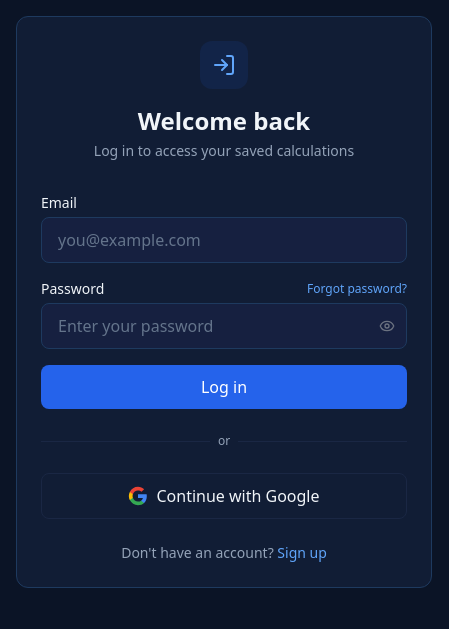
Test: LoginPage - client-side validation › blocks submit and surfaces the required error on the password when only the email is filled
The width and height of the screenshot is (449, 629).
Step 1. Type "maria@example.com" into the field labelled "Email" → [224, 240], box [41, 217, 407, 263]
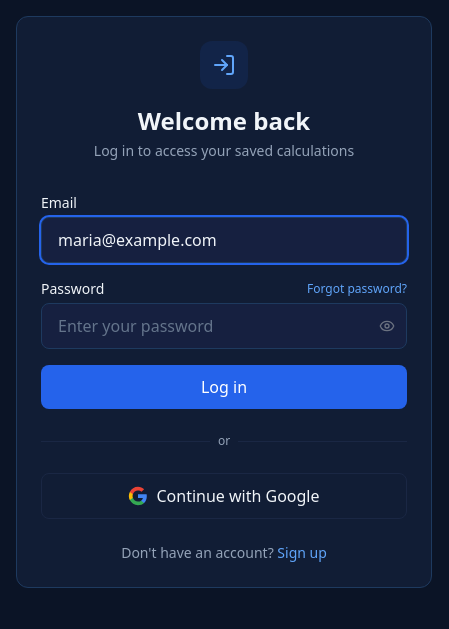
Step 2. Click the button "Log in" → [224, 387], box [41, 365, 407, 409]
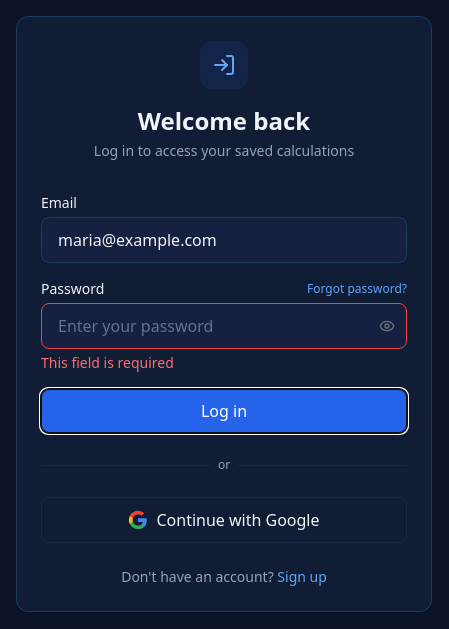
Expected: the message reads "This field is required", [41, 353, 174, 372]
